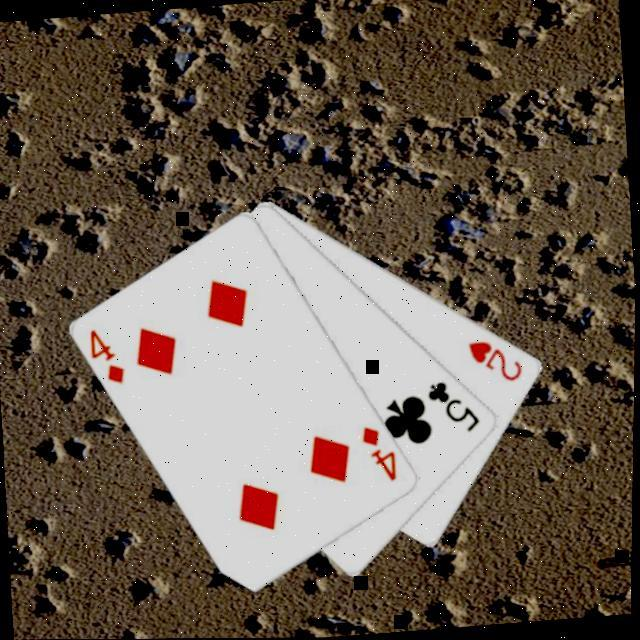2H: (462, 336, 526, 390)
4D: (83, 324, 128, 391), (356, 424, 401, 489)
5C: (422, 377, 485, 440)
